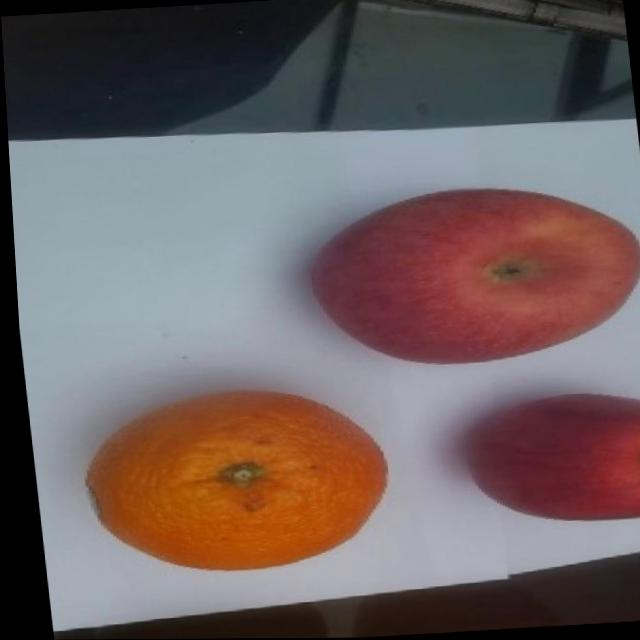Apple: (298, 178, 640, 372), (454, 387, 640, 529)
Orange: (71, 381, 393, 580)
